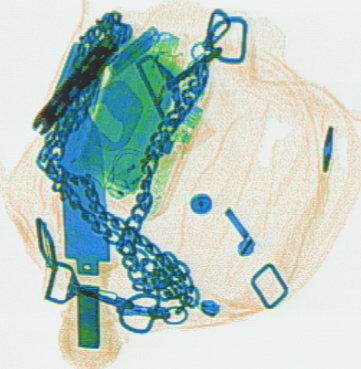knife: (53, 76, 118, 367), (30, 24, 127, 133)
lighter: (128, 30, 181, 107)
